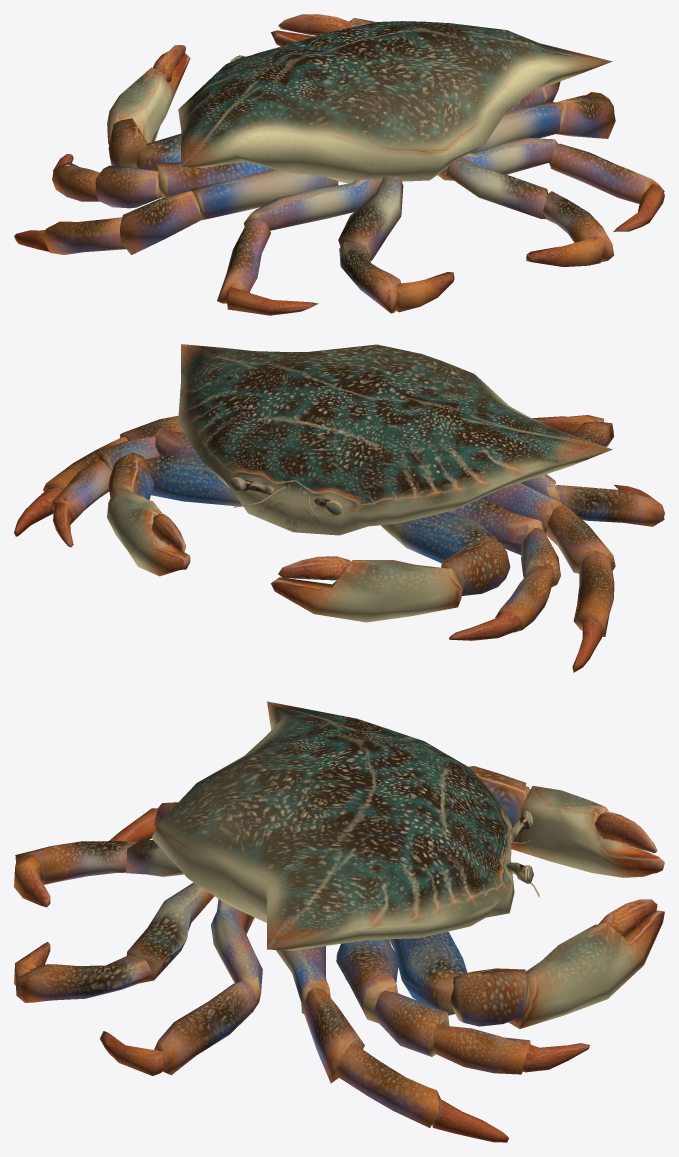
The model's file is blue_crab.fbx.
3 views of the same model, one above another, from view 1: azimuth 30°, elevation 25°; view 2: azimuth 150°, elevation 25°; view 3: azimuth 270°, elevation 25° (orthographic). The views are drawn at different scales.
Parts seen in each view (by area): view 1: Blue_crab; view 2: Blue_crab; view 3: Blue_crab.
Part boxes in pixels (x1,y1,x2,y2): Blue_crab: (14,14,664,315); Blue_crab: (14,344,664,672); Blue_crab: (14,701,664,1142).
Size of the model in its own units: 143 by 42.21 by 121.
